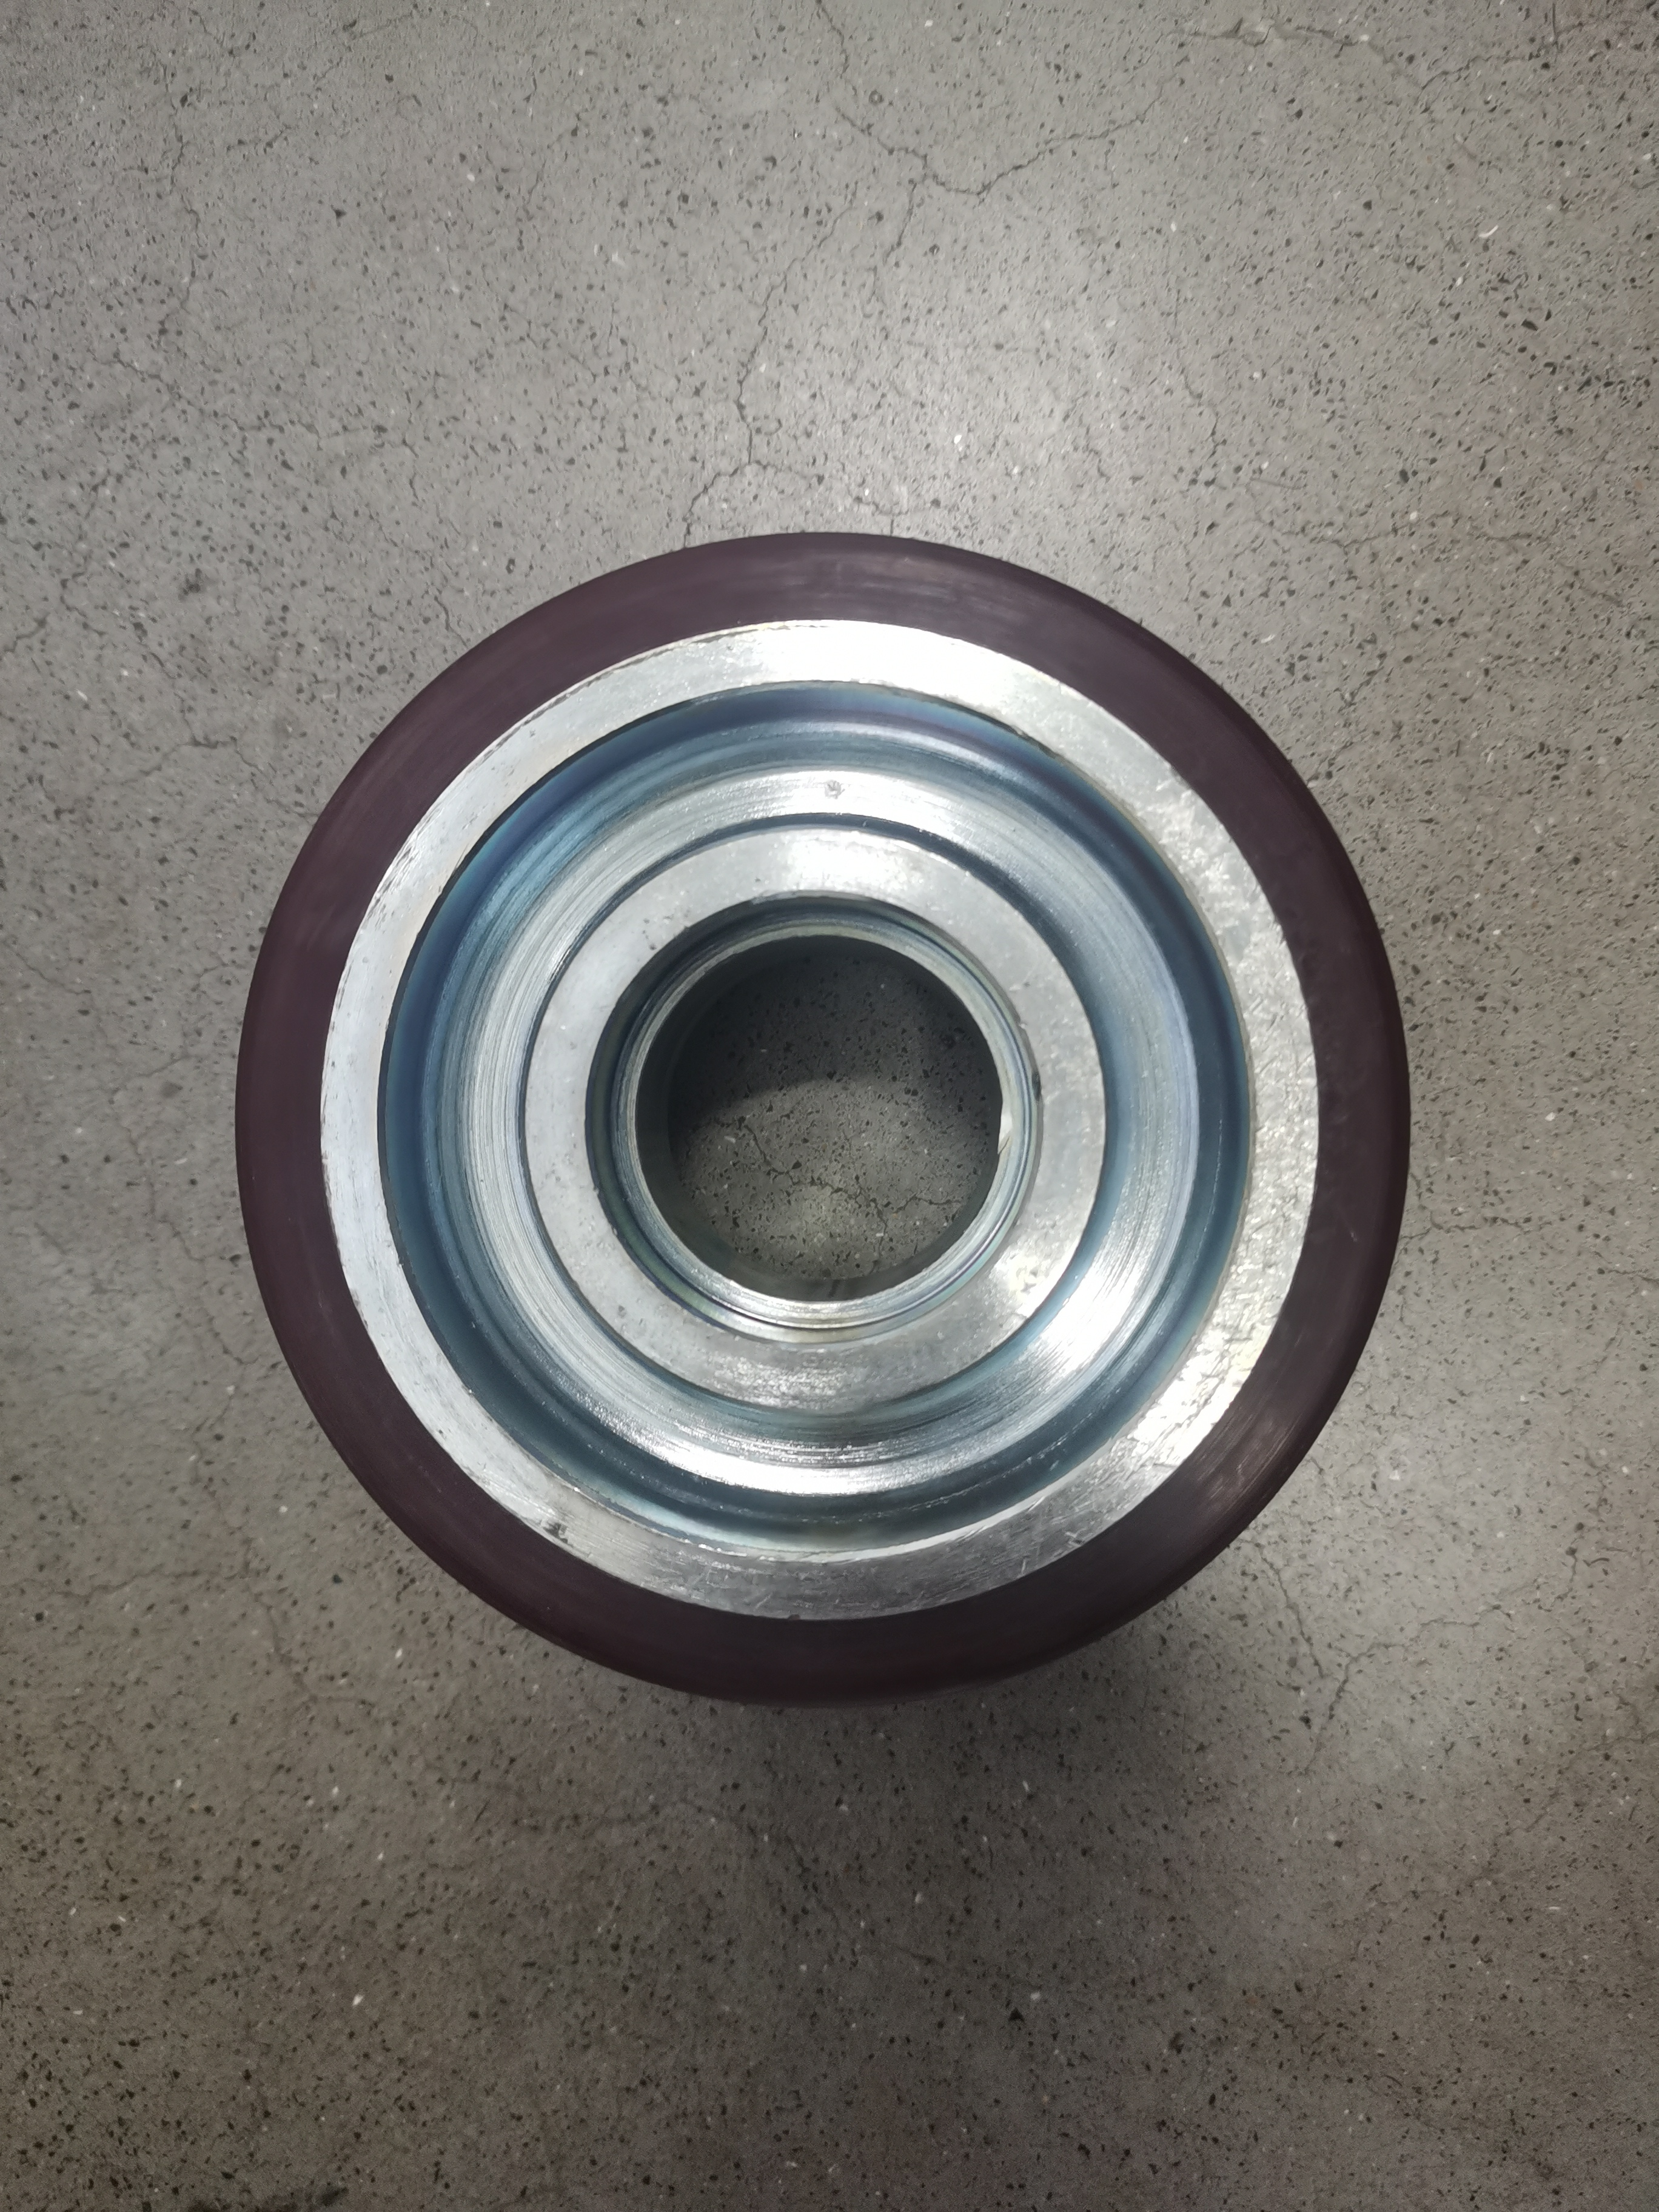good_wheel: (240, 496, 1432, 1700)
